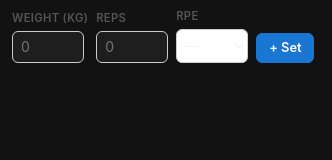
Test: SetLogForm › shows validation error when reps is empty
The width and height of the screenshot is (332, 160).
// Fill weight, leave reps empty
Type "100" into the number field labelled "Weight (kg)" at (48, 47), box [12,31,84,63]
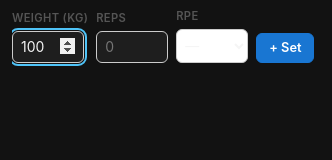
Click the button "+ Set" at (285, 48), box [256,33,314,63]
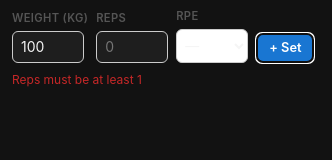
expect the message reads "Reps must be at least 1": met, box [12,72,142,87]
